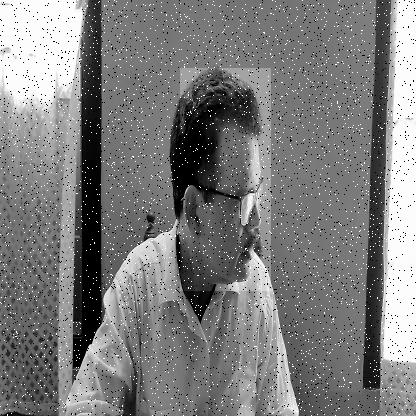Distracted: (180, 68, 271, 291)
